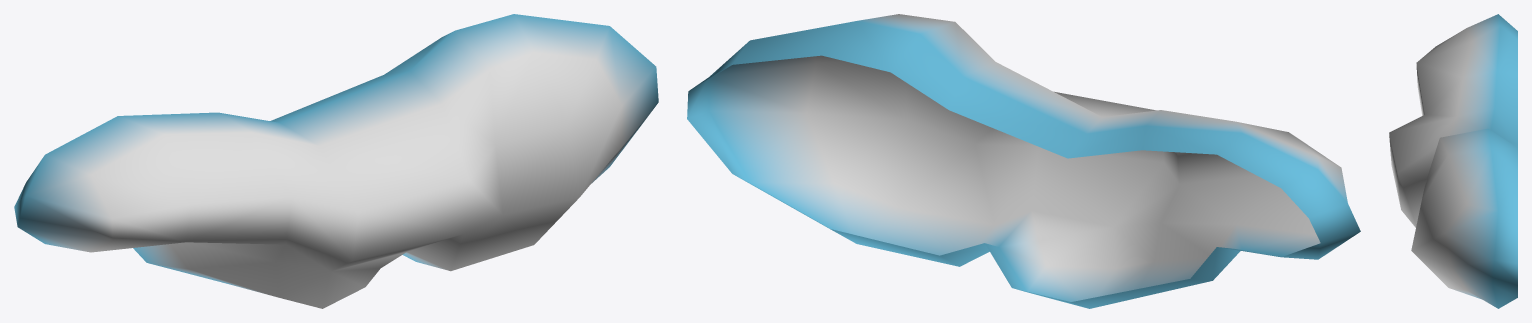
Rendered from IceFlow_B.glb.
The picture shows the model from 3 angles, left to right: view 1: azimuth 30°, elevation 25°; view 2: azimuth 150°, elevation 25°; view 3: azimuth 270°, elevation 25°; orthographic projection. The views are drawn at different scales.
Parts seen in each view (by area): view 1: MeshNode_0; view 2: MeshNode_0; view 3: MeshNode_0.
Boxes of the visible parts, box(x1,y1,x2,y2) form: MeshNode_0: box(14, 14, 658, 308); MeshNode_0: box(687, 14, 1360, 308); MeshNode_0: box(1389, 14, 1517, 308).
Bounding box in the file's own units: 80.43 × 27.19 × 19.97.
